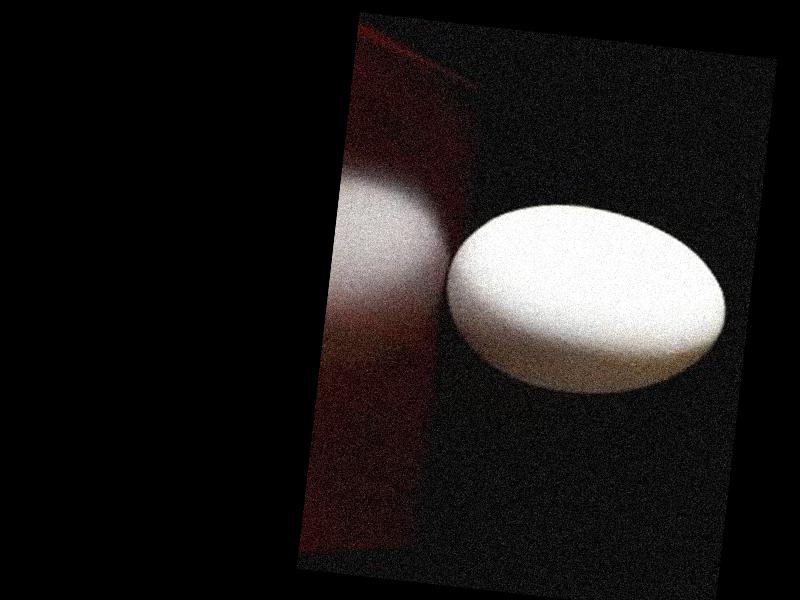Eggs: (436, 192, 735, 406)
